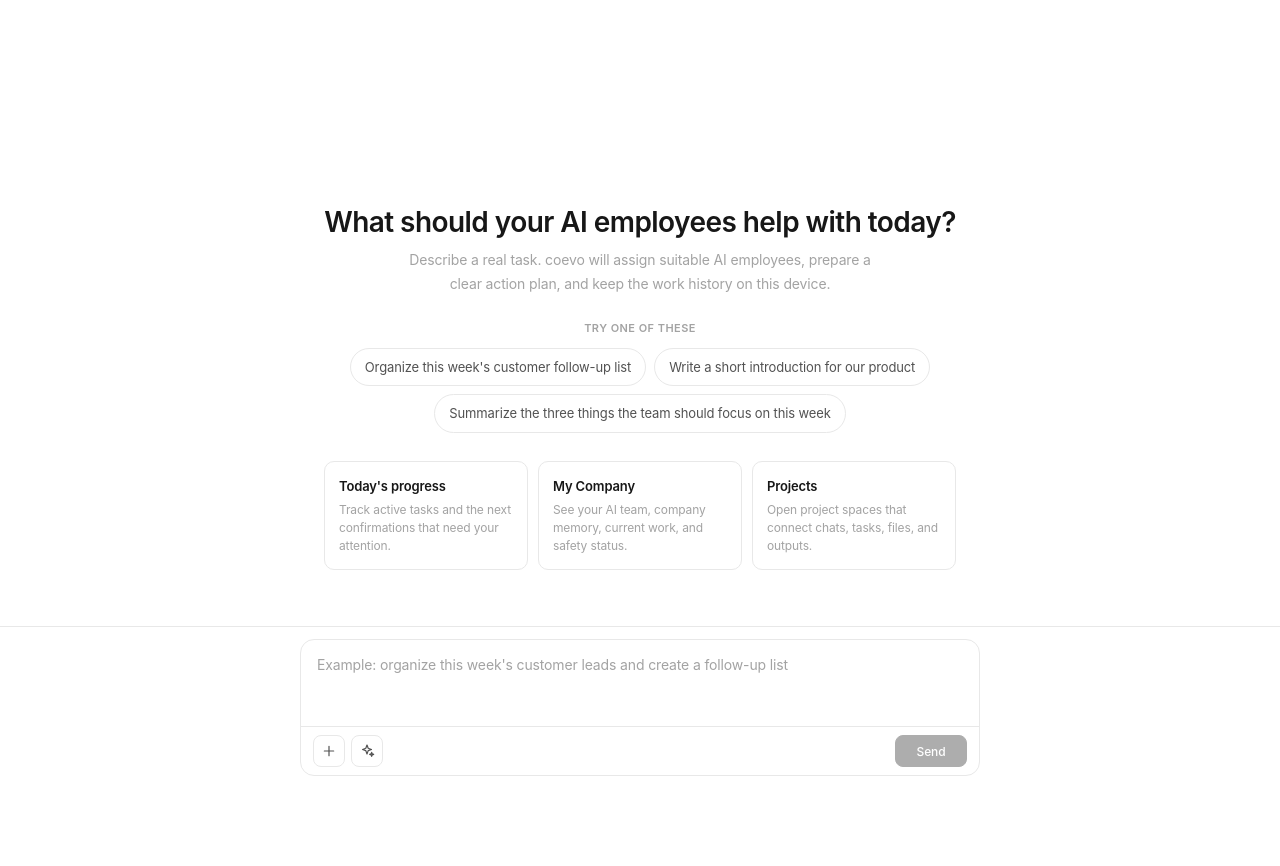
MissionChat WorkOrder creation › turns a low-risk mission into a planned customer task
This screenshot has width=1280, height=866.
Replace the text in the text box with "Analyze the README and summarize the project direction". click: x=640, y=680
box: [301, 640, 979, 720]
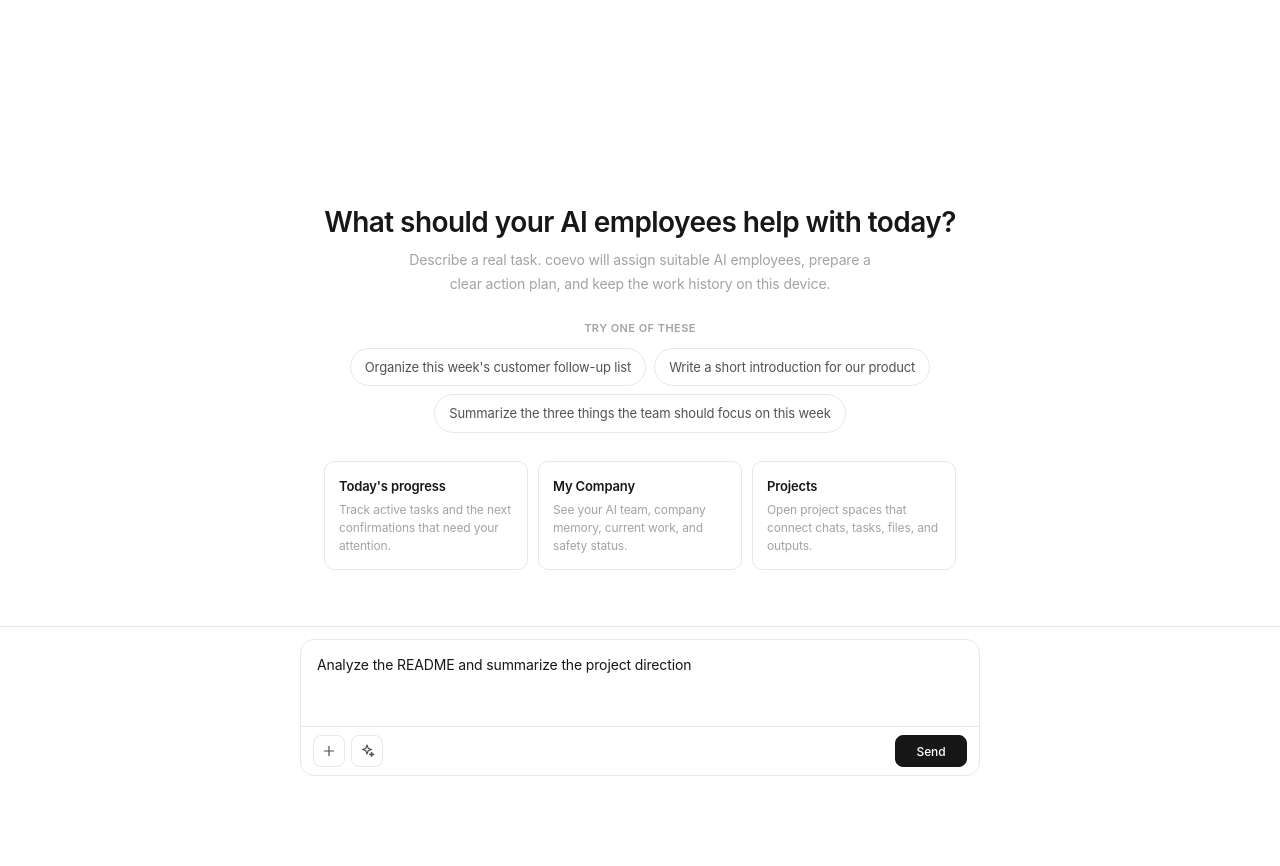
Click the button "Send". click: x=931, y=751
box: [895, 735, 967, 767]
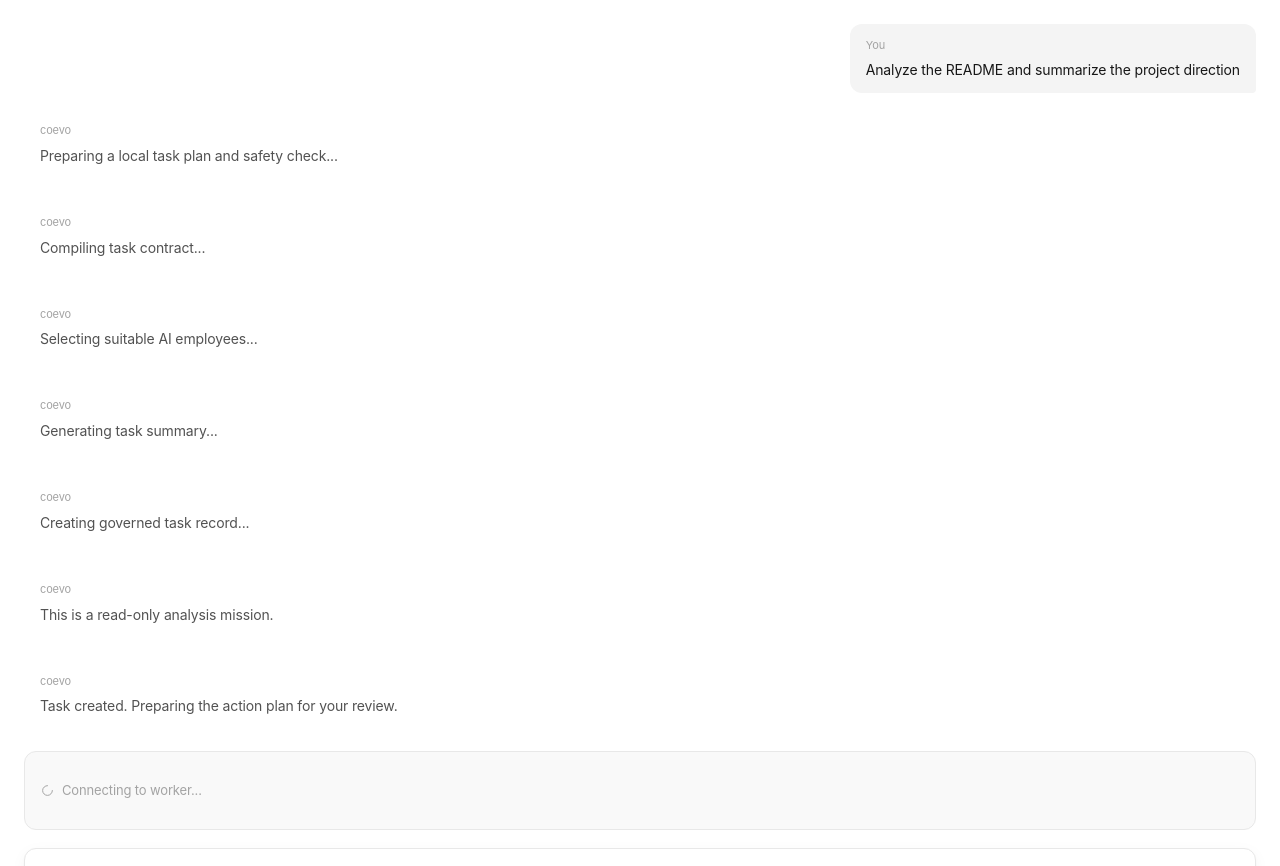
Result: the text "This is a read-only analysis mission." is shown at [40, 604, 274, 626]
Result: the text "Task created. Preparing the action plan for your review." is shown at [40, 695, 398, 718]
